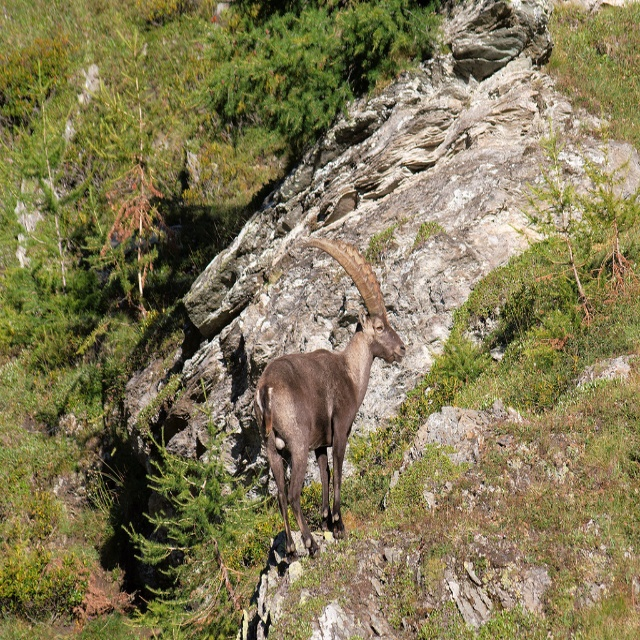Goat: (254, 238, 405, 563)
